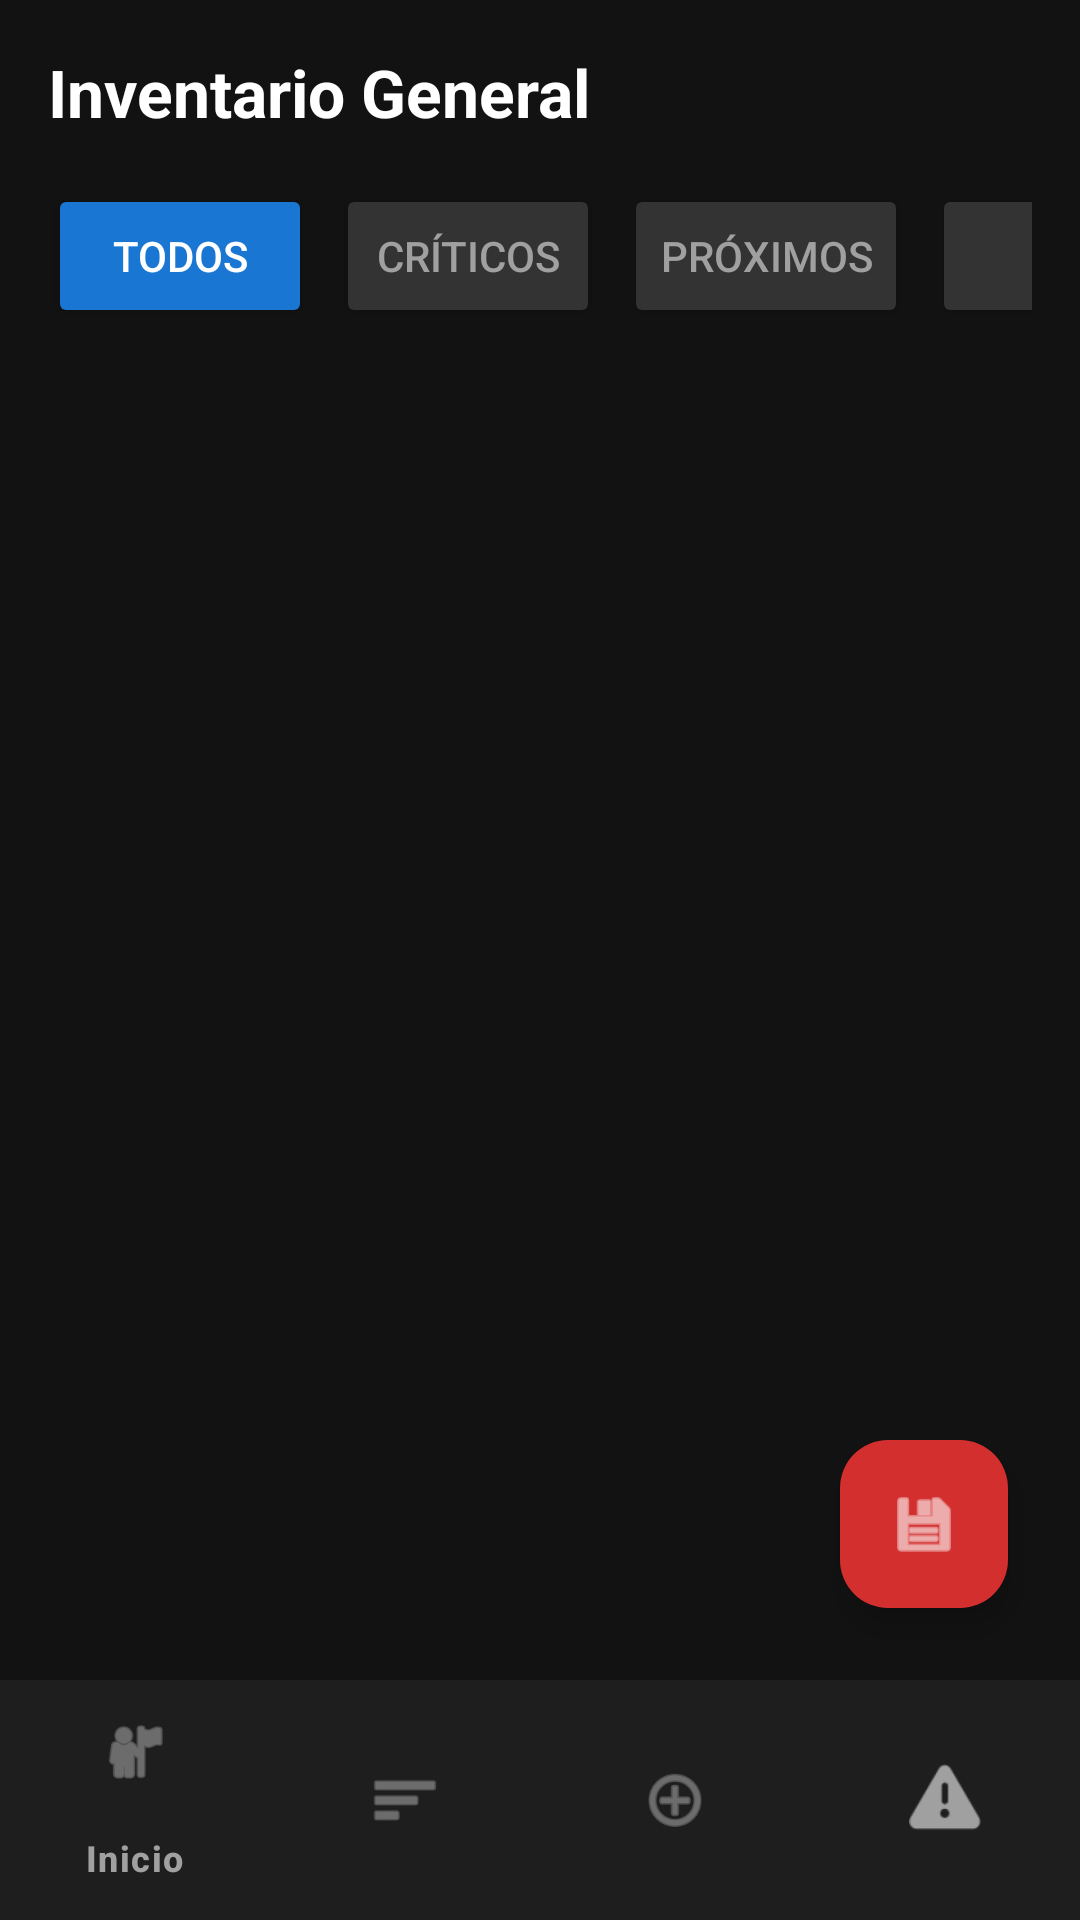

Where icons sit on this 1080px×1920px app screen, as (x1, y1, x2, y2):
save: (840, 1440, 1008, 1608)
